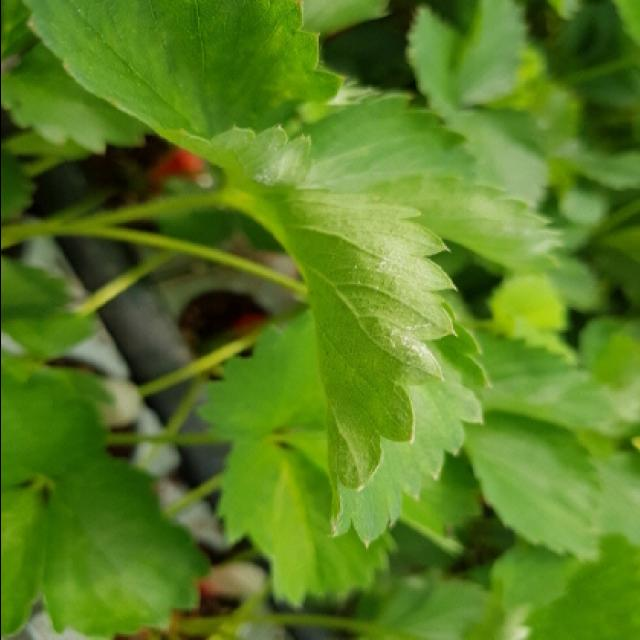Powdery Mildew Leaf: (250, 190, 492, 550), (23, 2, 343, 193)
